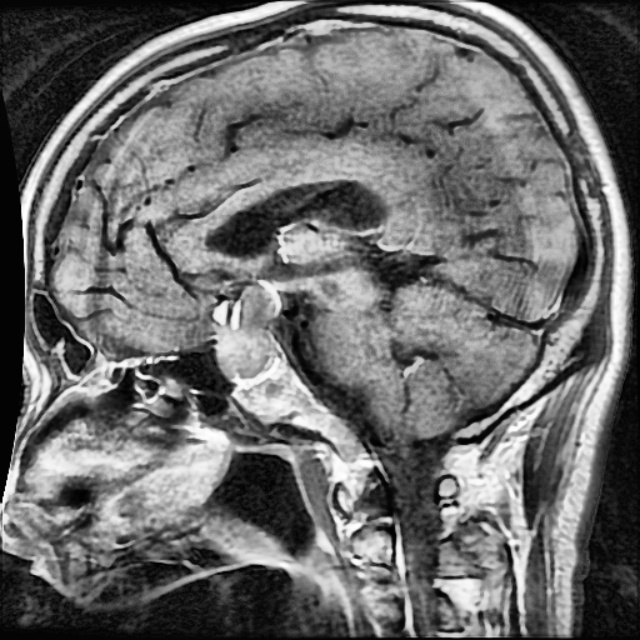Pituitary: (217, 285, 277, 380)
